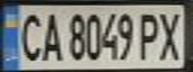0: (81, 9, 103, 61)
4: (100, 9, 121, 61)
8: (63, 9, 87, 61)
9: (115, 9, 139, 61)
A: (36, 9, 63, 62)
C: (12, 9, 45, 63)
P: (136, 9, 163, 61)
X: (154, 8, 187, 61)
